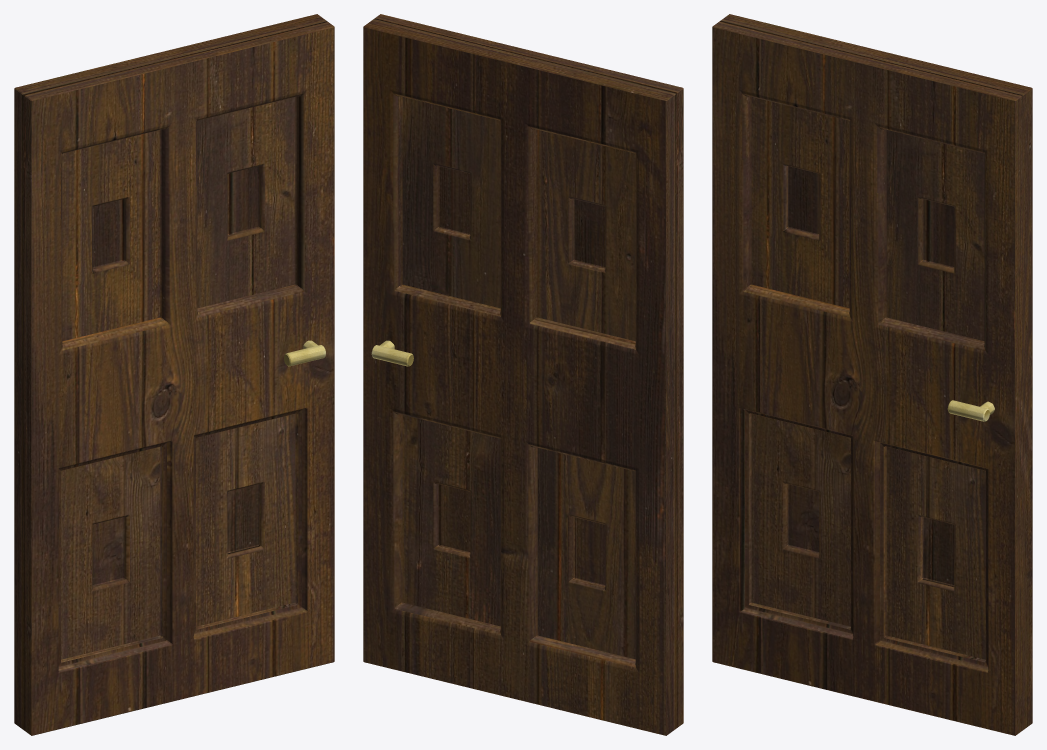
File: Wooden_door.fbx
The picture shows the model from 3 angles, left to right: view 1: azimuth 30°, elevation 25°; view 2: azimuth 150°, elevation 25°; view 3: azimuth 330°, elevation 25°; orthographic projection.
Visible parts, largest first — view 1: pCube1, pCylinder2; view 2: pCube1, pCylinder2; view 3: pCube1, pCylinder2.
Part boxes in pixels (box(x1,y1,x2,y2)): pCube1: box(14, 14, 334, 735); pCylinder2: box(284, 345, 325, 366); pCube1: box(363, 14, 683, 735); pCylinder2: box(371, 345, 413, 366); pCube1: box(712, 14, 1032, 735); pCylinder2: box(947, 400, 989, 421).
Size of the model in its own units: 10 by 20 by 2.34.
Materials: 2 (2 with a texture image).
